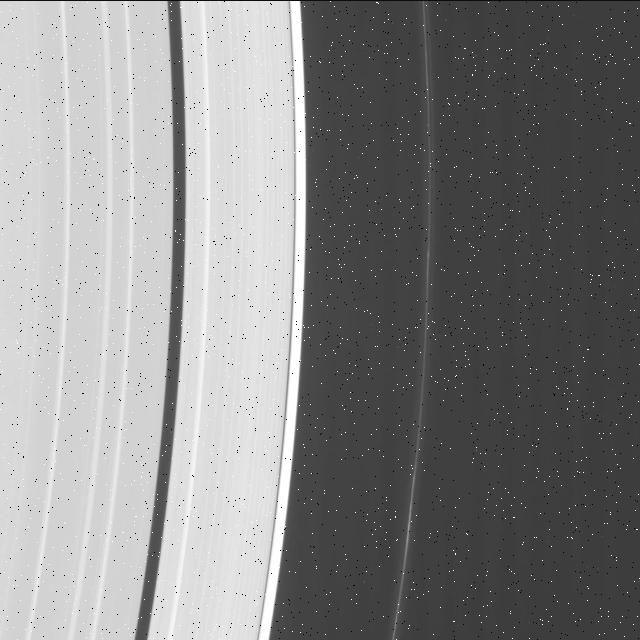Saturn: (0, 0, 440, 640)
